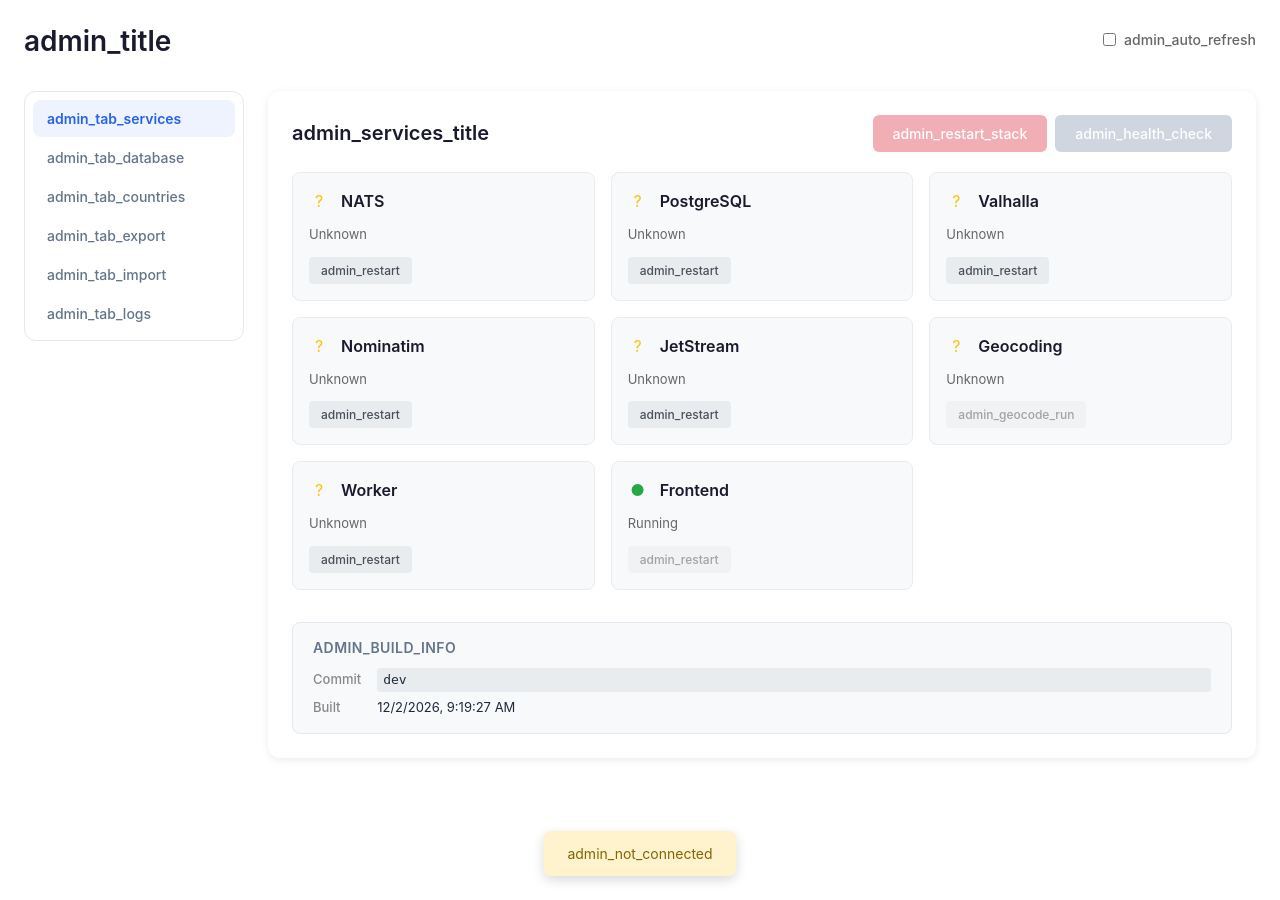
Test: Admin page — sidebar layout › switches to logs section when clicking the tab
Click the button "admin_tab_logs". click: (134, 314)
box: [33,295,235,332]
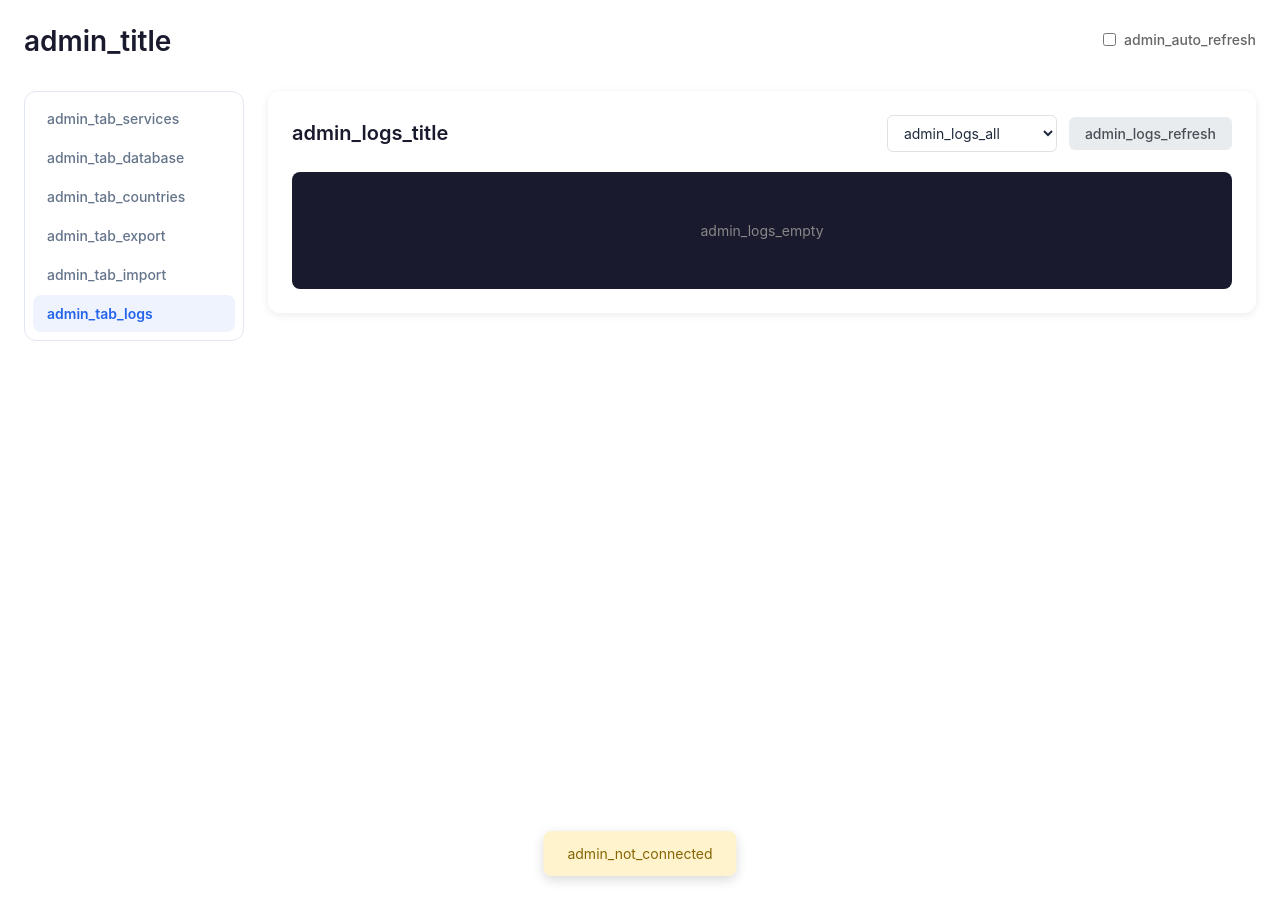
Expected: the heading "admin_logs_title" is shown, [292,121,448,146]
